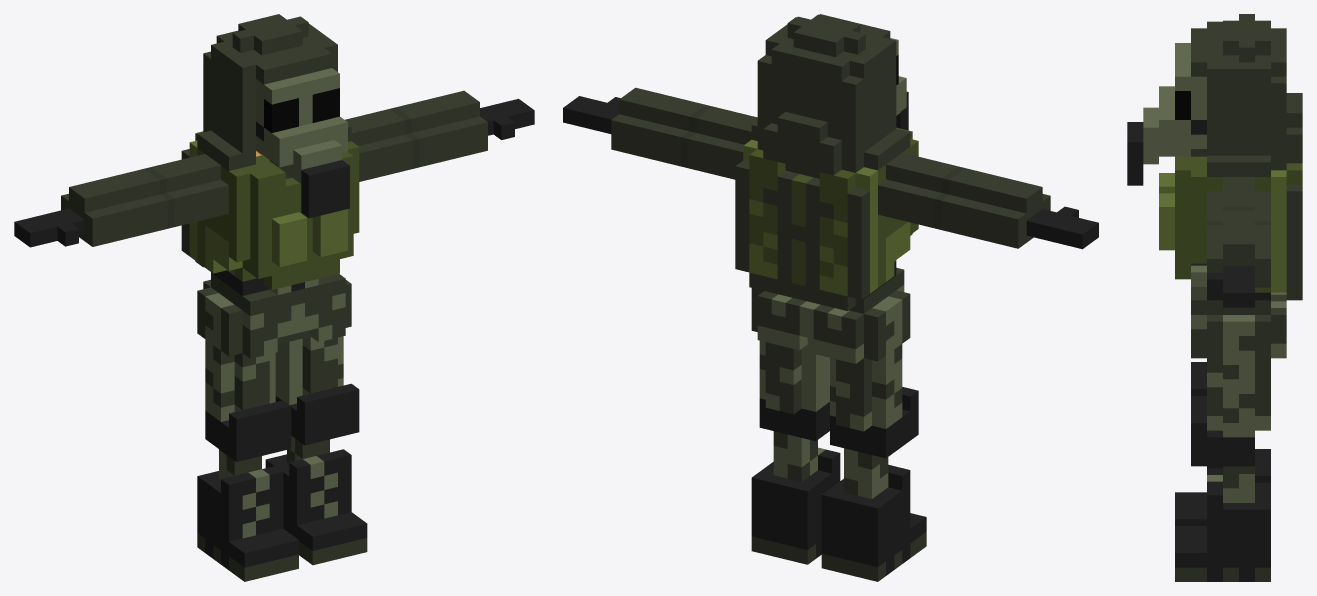
The model's file is Character-6.obj.
3 views of the same model, side by side, from view 1: azimuth 30°, elevation 25°; view 2: azimuth 150°, elevation 25°; view 3: azimuth 270°, elevation 25° (orthographic). The views are drawn at different scales.
Visible parts, largest first — view 1: Character-6; view 2: Character-6; view 3: Character-6.
Boxes of the visible parts, x1=… form: Character-6: x1=14, y1=14, x2=534, y2=581; Character-6: x1=563, y1=14, x2=1098, y2=581; Character-6: x1=1127, y1=14, x2=1302, y2=581.
Size of the model in its own units: 7.4 by 7.2 by 2.2.
Materials: 1 (1 with a texture image).
